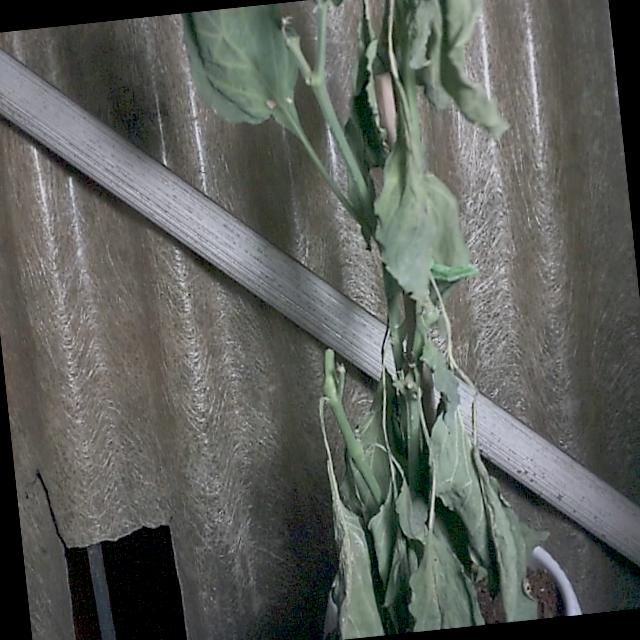Leaf: (374, 134, 441, 318), (326, 498, 389, 640)
